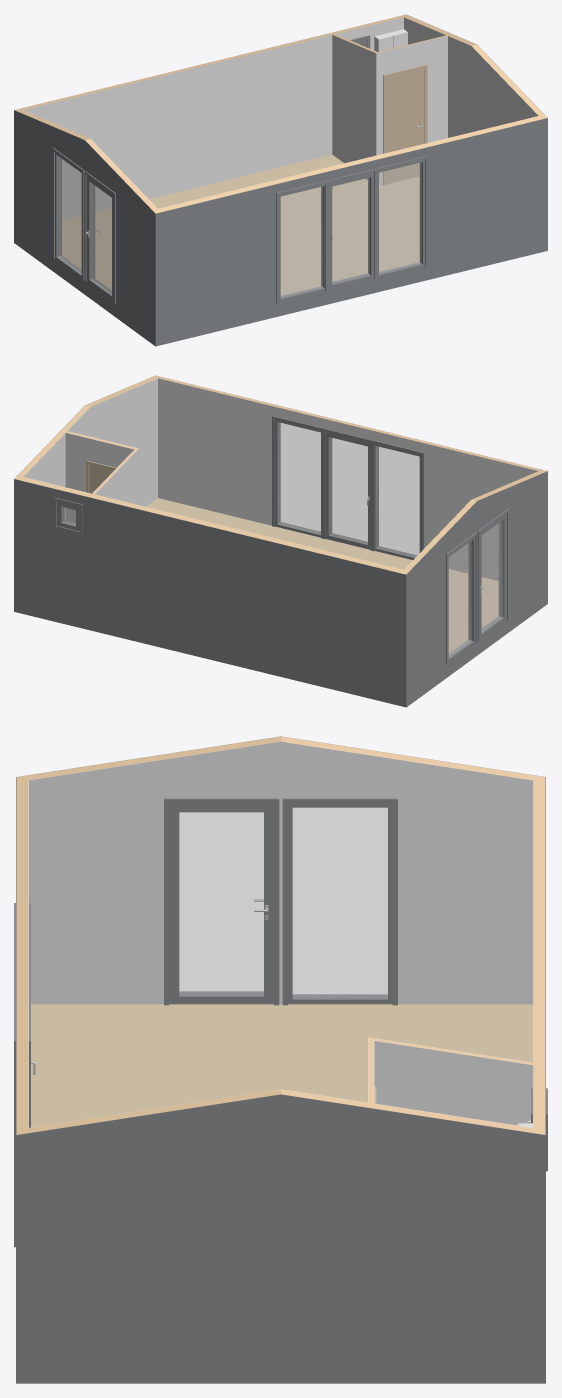
The picture shows the model from 3 angles, top to bottom: view 1: azimuth 30°, elevation 25°; view 2: azimuth 150°, elevation 25°; view 3: azimuth 270°, elevation 25°; orthographic projection. The views are drawn at different scales.
Visible parts, largest first — view 1: IfcWall/Part:2663454, IfcWall/Part:2663462, IfcSlab/Part:2663543, IfcWall/Part:2663460, IfcWall/Part:2663456, IfcWindow/Langai (Akrusta):1000x2100x120:2731025, IfcWindow/Langai (Akrusta):1000x2100x120:2726548, IfcWindow/Langai (Akrusta):1000x2100x120 (kairinis):2725667, IfcWall/Part:2679602, IfcDoor/Durys vidinės:800x2100 x 120 (dešininės):2663563, IfcWall/Part:2663506, IfcWindow/Langai (Akrusta):1000x2100x120:2732257 (+6 smaller); view 2: IfcWall/Part:2663463, IfcWall/Part:2663453, IfcWall/Part:2663460, IfcWall/Part:2663456, IfcWindow/Langai (Akrusta):1000x2100x120:2731025, IfcWindow/Langai (Akrusta):1000x2100x120:2726548, IfcWindow/Langai (Akrusta):1000x2100x120 (kairinis):2725667, IfcSlab/Part:2663543, IfcDoor/Durys išorinės:1000x2100x120 (dešininės):2732254, IfcWindow/Langai (Akrusta):1000x2100x120:2732257, IfcWall/Part:2663507, IfcWall/Part:2663464 (+6 smaller); view 3: IfcWall/Part:2663457, IfcWall/Part:2663459, IfcSlab/Part:2663543, IfcWindow/Langai (Akrusta):1000x2100x120:2732257, IfcDoor/Durys išorinės:1000x2100x120 (dešininės):2732254, IfcWall/Part:2679603, IfcWall/Part:2663455, IfcWall/Part:2663464, IfcWall/Part:2663458, IfcWall/Part:2663461, IfcWindow/Langai (Akrusta):1000x2100x120:2731025.
Part boxes in pixels (left/top/right/bottom): IfcWall/Part:2663454: left=155, top=118, right=547, bottom=346; IfcWall/Part:2663462: left=23, top=17, right=403, bottom=220; IfcSlab/Part:2663543: left=62, top=154, right=419, bottom=295; IfcWall/Part:2663460: left=14, top=110, right=155, bottom=345; IfcWall/Part:2663456: left=404, top=17, right=538, bottom=137; IfcWindow/Langai (Akrusta):1000x2100x120:2731025: left=374, top=156, right=427, bottom=279; IfcWindow/Langai (Akrusta):1000x2100x120:2726548: left=276, top=180, right=329, bottom=303; IfcWindow/Langai (Akrusta):1000x2100x120 (kairinis):2725667: left=321, top=168, right=378, bottom=291; IfcWall/Part:2679602: left=332, top=35, right=376, bottom=179; IfcDoor/Durys vidinės:800x2100 x 120 (dešininės):2663563: left=383, top=64, right=427, bottom=185; IfcWall/Part:2663506: left=376, top=36, right=447, bottom=185; IfcWindow/Langai (Akrusta):1000x2100x120:2732257: left=52, top=147, right=84, bottom=280; IfcWall/Part:2663463: left=14, top=479, right=406, bottom=707; IfcWall/Part:2663453: left=158, top=378, right=538, bottom=580; IfcWall/Part:2663460: left=406, top=471, right=547, bottom=706; IfcWall/Part:2663456: left=23, top=378, right=157, bottom=520; IfcWindow/Langai (Akrusta):1000x2100x120:2731025: left=272, top=416, right=325, bottom=539; IfcWindow/Langai (Akrusta):1000x2100x120:2726548: left=370, top=441, right=424, bottom=559; IfcWindow/Langai (Akrusta):1000x2100x120 (kairinis):2725667: left=321, top=428, right=378, bottom=551; IfcSlab/Part:2663543: left=146, top=498, right=498, bottom=653; IfcDoor/Durys išorinės:1000x2100x120 (dešininės):2732254: left=477, top=508, right=509, bottom=641; IfcWindow/Langai (Akrusta):1000x2100x120:2732257: left=446, top=532, right=477, bottom=664; IfcWall/Part:2663507: left=65, top=433, right=134, bottom=522; IfcWall/Part:2663464: left=15, top=475, right=408, bottom=574; IfcWall/Part:2663457: left=16, top=1094, right=545, bottom=1383; IfcWall/Part:2663459: left=29, top=741, right=533, bottom=1004; IfcSlab/Part:2663543: left=31, top=1004, right=533, bottom=1127; IfcWindow/Langai (Akrusta):1000x2100x120:2732257: left=282, top=798, right=397, bottom=1005; IfcDoor/Durys išorinės:1000x2100x120 (dešininės):2732254: left=164, top=798, right=279, bottom=1005; IfcWall/Part:2679603: left=374, top=1040, right=533, bottom=1125; IfcWall/Part:2663455: left=16, top=775, right=28, bottom=1134; IfcWall/Part:2663464: left=533, top=775, right=545, bottom=1134; IfcWall/Part:2663458: left=28, top=1089, right=533, bottom=1132; IfcWall/Part:2663461: left=28, top=736, right=533, bottom=780; IfcWindow/Langai (Akrusta):1000x2100x120:2731025: left=14, top=994, right=30, bottom=1247.
Size of the model in its own units: 807 by 301 by 504.
